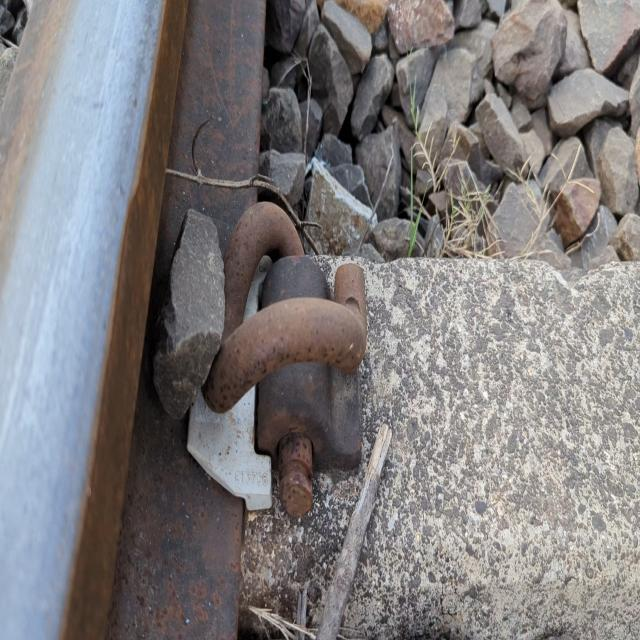overrailed: (189, 174, 410, 546)
